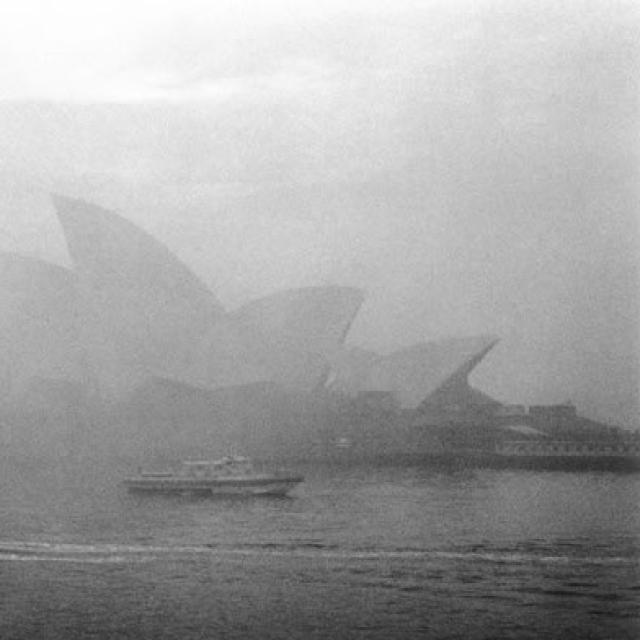passenger ship: (122, 446, 294, 498)
